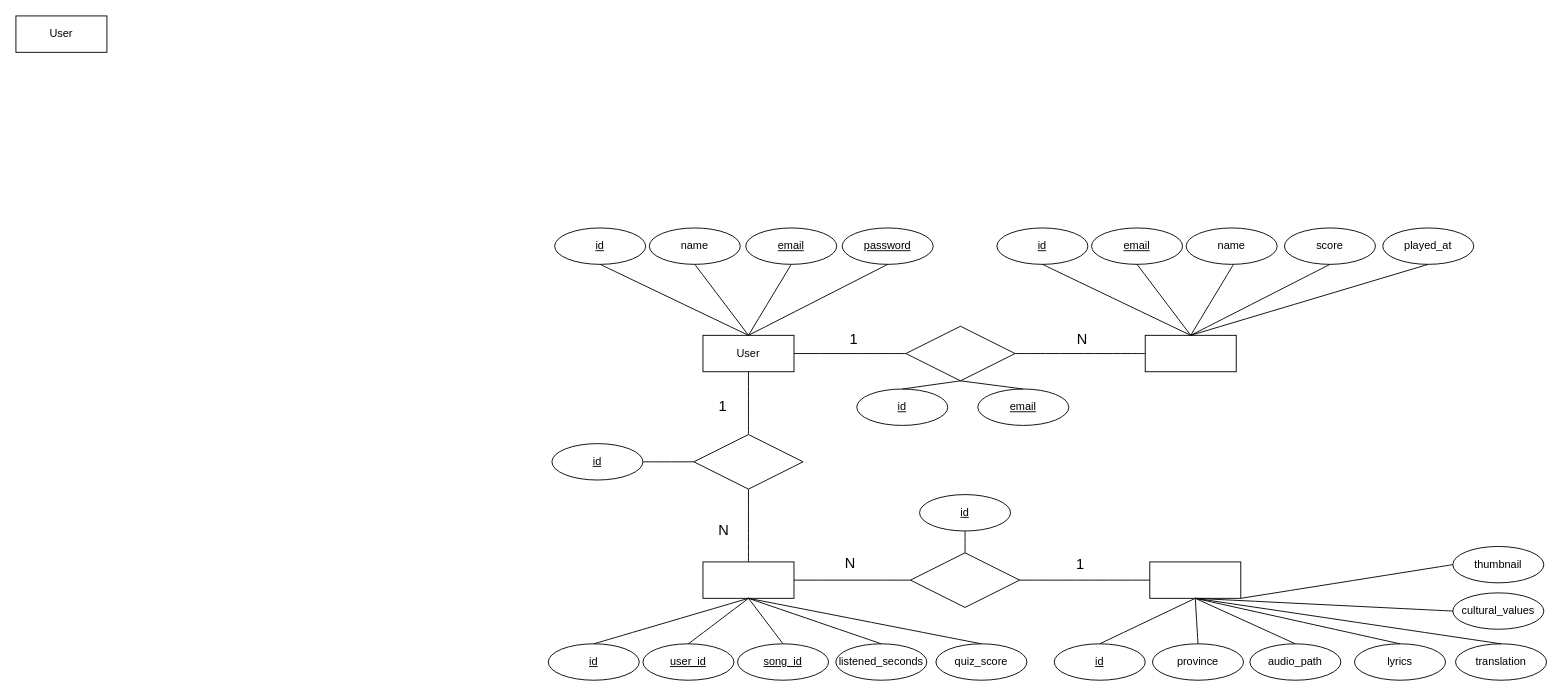
Some shapes in this 1562 by 696 pixel diagram are drawn without their labels. Here are the shapes that lost their labels. From the top down, the centre of each, then its label:
At [960,353]: "Memiliki".
At [1190,353]: "Leaderboard".
At [748,461]: "Dimiliki".
At [748,579]: "User_Progress".
At [965,579]: "Mencatat".
At [1195,579]: "Songs".
